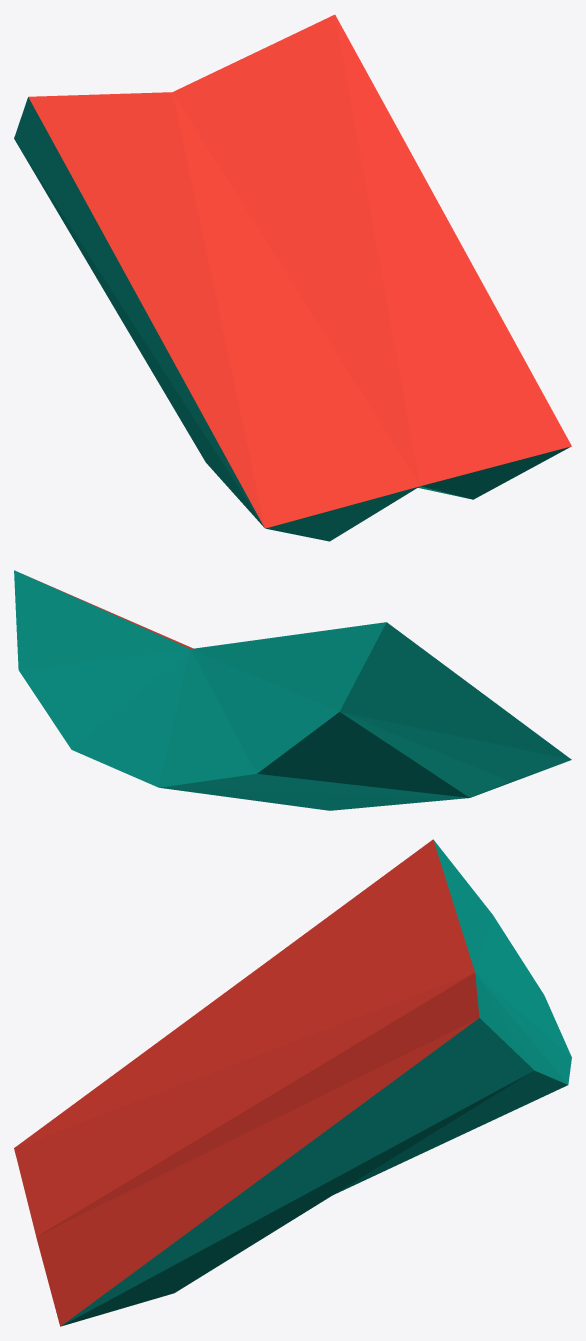
File: n5_n5_group225665673_lev5.001.glb
The picture shows the model from 3 angles, top to bottom: view 1: azimuth 30°, elevation 25°; view 2: azimuth 150°, elevation 25°; view 3: azimuth 270°, elevation 25°; orthographic projection. The views are drawn at different scales.
Parts seen in each view (by area): view 1: n5_n5_group225665673_lev5.001; view 2: n5_n5_group225665673_lev5.001; view 3: n5_n5_group225665673_lev5.001.
Boxes of the visible parts, <box> form: n5_n5_group225665673_lev5.001: <box>14,14,571,541</box>; n5_n5_group225665673_lev5.001: <box>14,570,571,810</box>; n5_n5_group225665673_lev5.001: <box>14,839,571,1326</box>.
Size of the model in its own units: 3.1 by 2.79 by 4.09.
